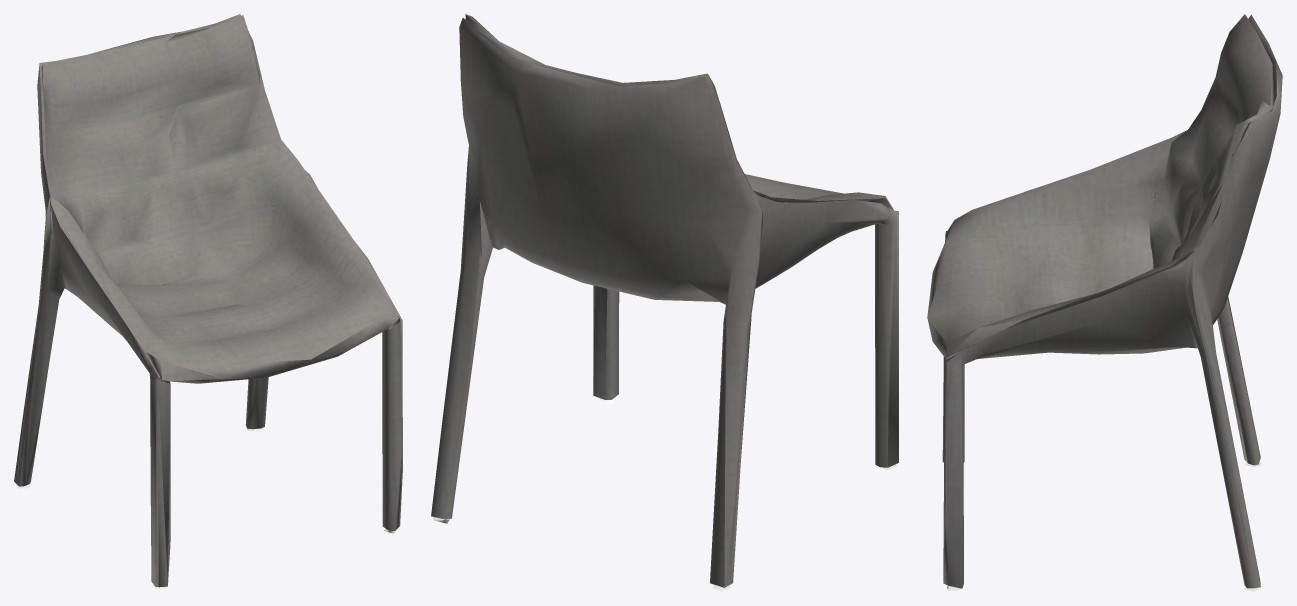
Rendered from Chair0008.obj.
3 views of the same model, side by side, from view 1: azimuth 30°, elevation 25°; view 2: azimuth 150°, elevation 25°; view 3: azimuth 270°, elevation 25° (orthographic). The views are drawn at different scales.
Bounding box in the file's own units: 0.591 × 0.955 × 0.668.
Materials: 1 (1 with a texture image).
